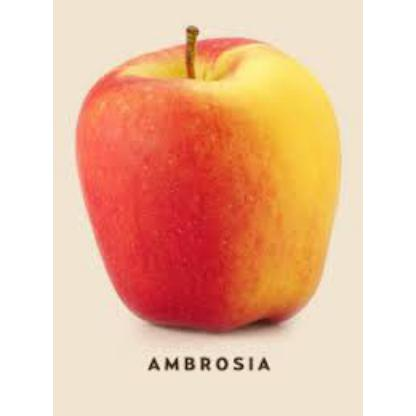apple: (85, 38, 323, 338)
